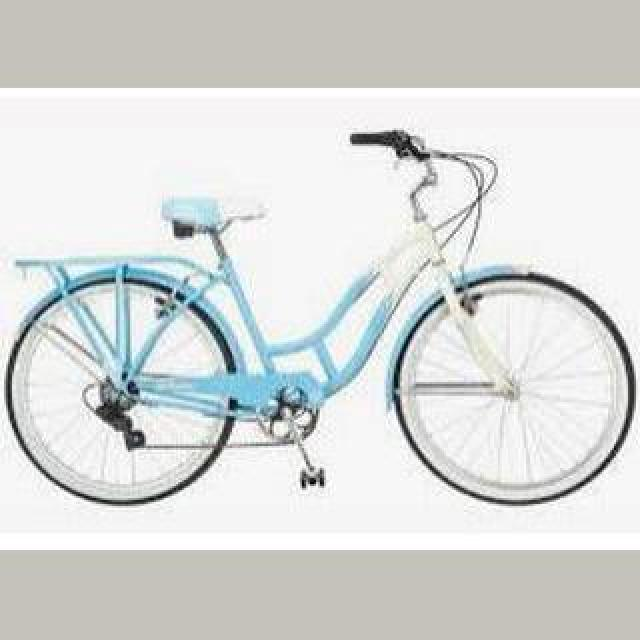Person: (7, 124, 635, 514)
